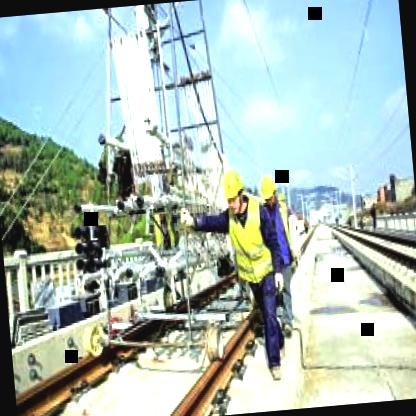helmet: (220, 160, 251, 220), (259, 172, 279, 208)
